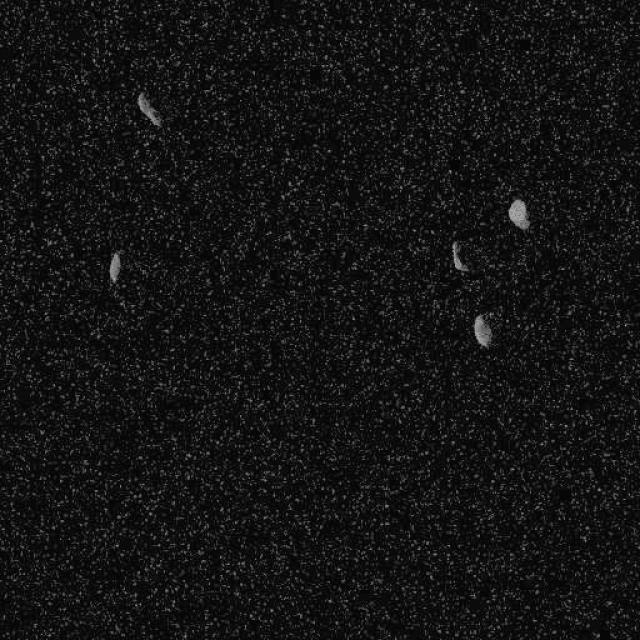D2: (135, 89, 164, 129), (506, 198, 530, 230), (472, 312, 492, 348), (450, 240, 469, 272), (108, 250, 121, 284)
